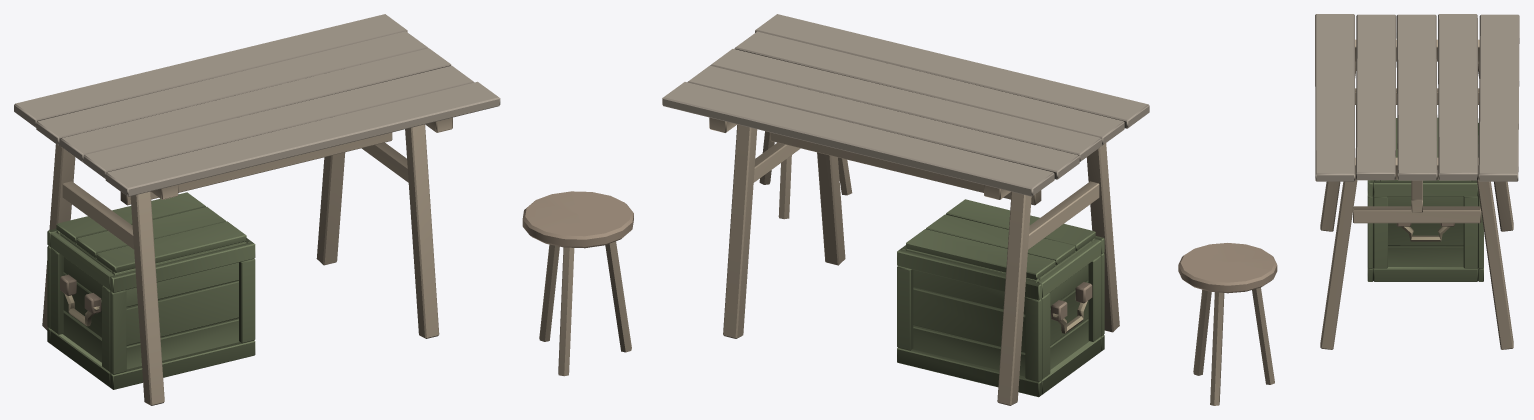
The model's file is camp_table.glb.
3 views of the same model, side by side, from view 1: azimuth 30°, elevation 25°; view 2: azimuth 150°, elevation 25°; view 3: azimuth 270°, elevation 25° (orthographic). The views are drawn at different scales.
Parts seen in each view (by area): view 1: static, box; view 2: static, box; view 3: static, box.
Boxes of the visible parts, x1,y1,x2,y2 form: static: (14, 14, 633, 405); box: (47, 192, 255, 389); static: (662, 14, 1149, 405); box: (897, 199, 1104, 397); static: (1178, 14, 1519, 405); box: (1367, 117, 1483, 281).
Size of the model in its own units: 1.57 by 0.7624 by 1.17.
